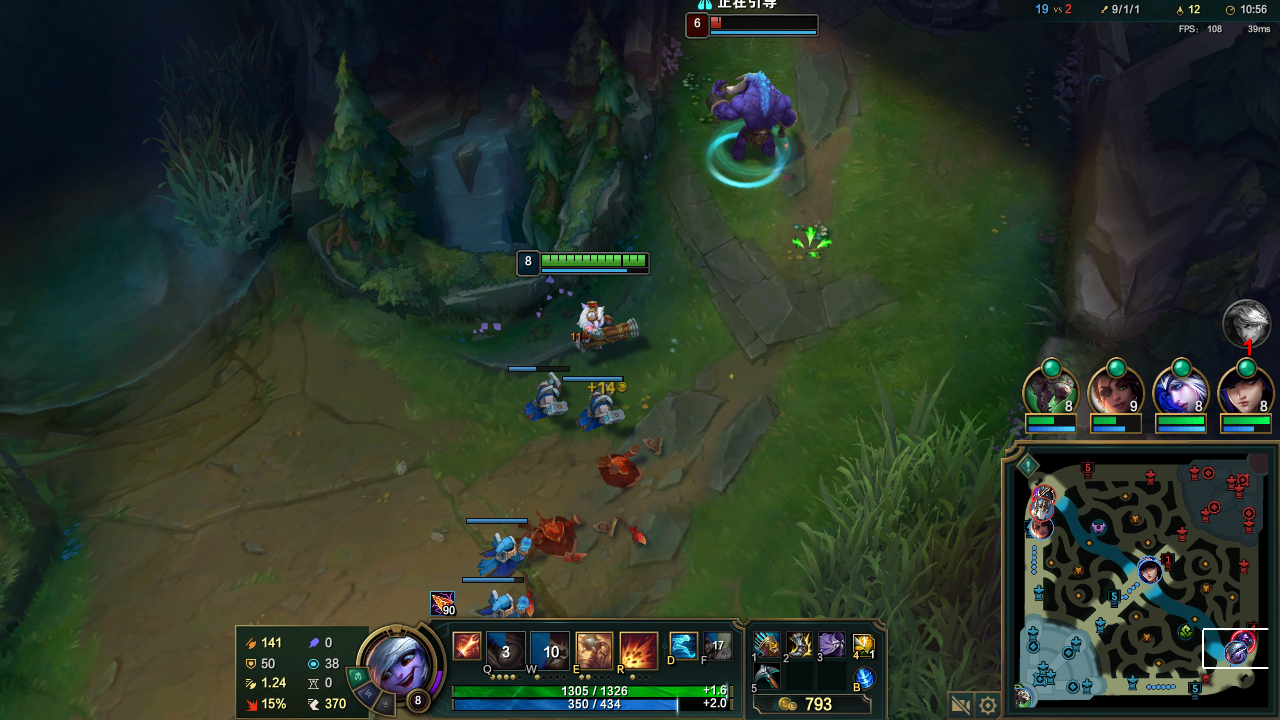DFYX: (707, 19, 759, 31)
WFXB: (573, 390, 637, 439), (513, 375, 570, 428), (471, 535, 540, 574), (477, 590, 538, 621)
Yita: (1185, 675, 1203, 698)
